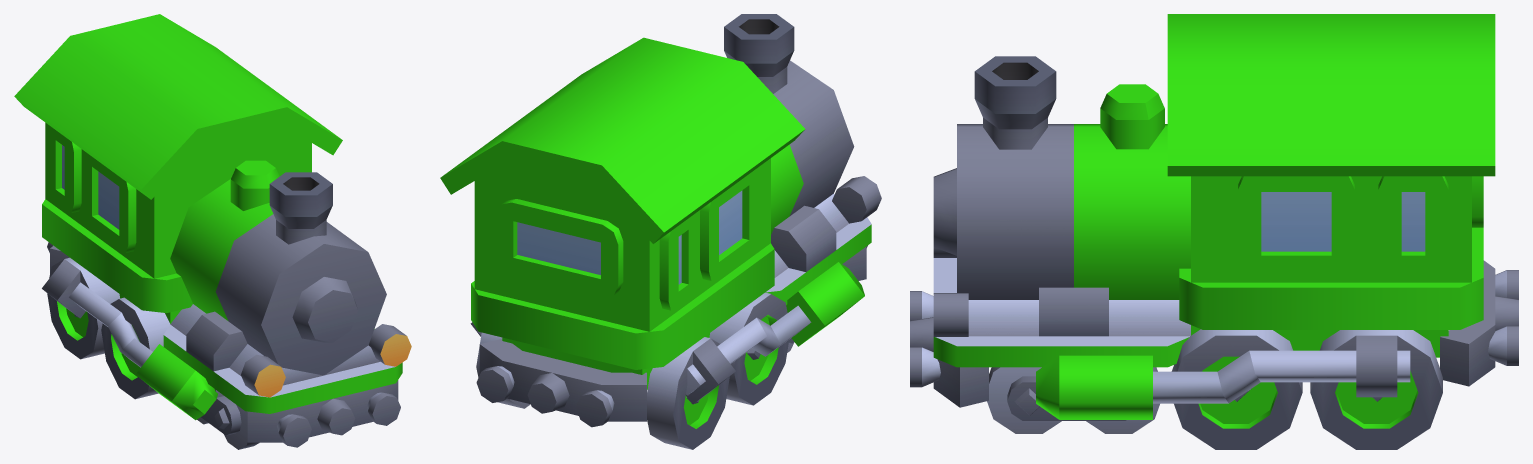
File: train-locomotive-a.glb
3 views of the same model, side by side, from view 1: azimuth 30°, elevation 25°; view 2: azimuth 150°, elevation 25°; view 3: azimuth 270°, elevation 25° (orthographic). The views are drawn at different scales.
Parts seen in each view (by area): view 1: body.001, train-locomotive-a, wheel, wheel.001, wheels-front; view 2: body.001, train-locomotive-a, wheel.001, wheel; view 3: body.001, train-locomotive-a, wheel.002, wheel.003, wheels-front.
Part boxes in pixels (x1,y1,x2,y2): body.001: [14, 14, 402, 420]; train-locomotive-a: [42, 145, 411, 447]; wheel: [101, 297, 170, 399]; wheel.001: [47, 257, 119, 359]; wheels-front: [197, 389, 259, 449]; body.001: [440, 37, 871, 428]; train-locomotive-a: [470, 14, 881, 427]; wheel.001: [647, 337, 729, 449]; wheel: [709, 292, 789, 405]; body.001: [933, 14, 1495, 428]; train-locomotive-a: [910, 56, 1518, 407]; wheel.002: [1171, 329, 1302, 449]; wheel.003: [1310, 330, 1442, 449]; wheels-front: [987, 367, 1159, 433].
Bounding box in the file's own units: 1.43 × 1.66 × 2.6.
Materials: 2 (1 with a texture image).
